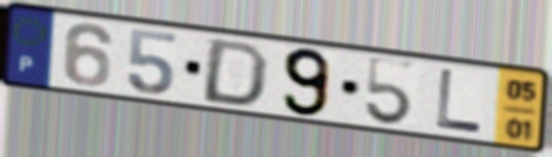5: (362, 53, 424, 129), (125, 25, 178, 97)
6: (61, 22, 115, 89)
9: (278, 45, 337, 120)
D: (197, 36, 273, 109)
L: (434, 66, 486, 136)
